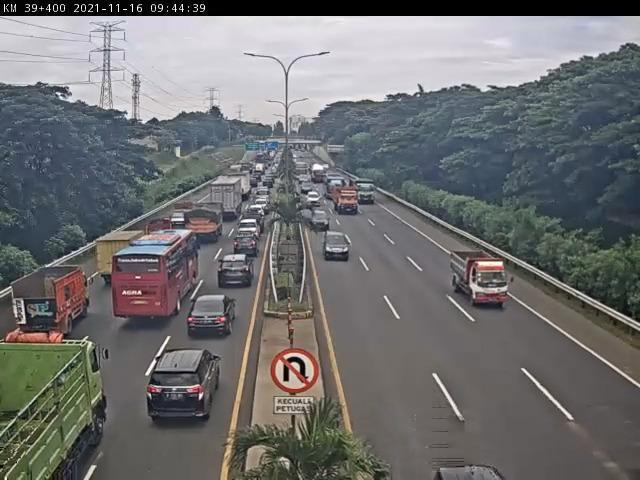bus: (114, 229, 198, 314)
car: (145, 348, 221, 422), (188, 294, 234, 338), (216, 255, 254, 287), (324, 231, 350, 261), (233, 232, 257, 256), (243, 209, 264, 231), (310, 209, 330, 229), (237, 219, 259, 237)
truck: (0, 334, 102, 480), (12, 266, 96, 330), (452, 250, 508, 306), (98, 228, 146, 284), (183, 198, 224, 238), (212, 176, 242, 216)
